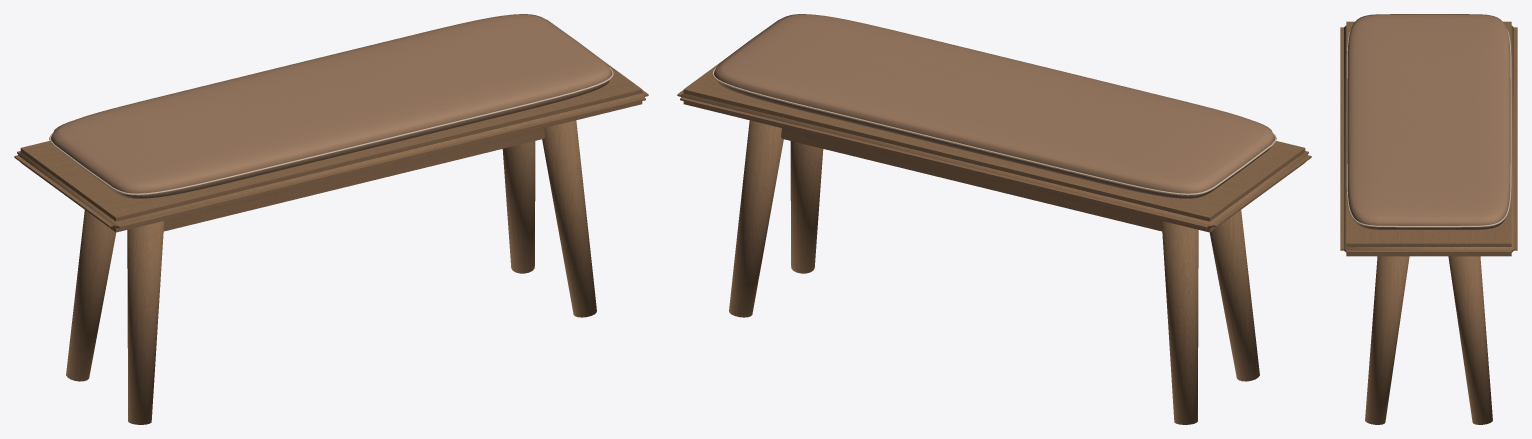
The model's file is traditional.bench.gltf.
The picture shows the model from 3 angles, left to right: view 1: azimuth 30°, elevation 25°; view 2: azimuth 150°, elevation 25°; view 3: azimuth 270°, elevation 25°; orthographic projection. The views are drawn at different scales.
Visible parts, largest first — view 1: traditional.bench.rounded-top; view 2: traditional.bench.rounded-top; view 3: traditional.bench.rounded-top.
Part boxes in pixels (x1,y1,x2,y2): traditional.bench.rounded-top: (14,14,648,424); traditional.bench.rounded-top: (677,14,1311,424); traditional.bench.rounded-top: (1340,14,1517,424).
Bounding box in the file's own units: 1.15 × 0.5105 × 0.38.
3 materials, 2 textured.
